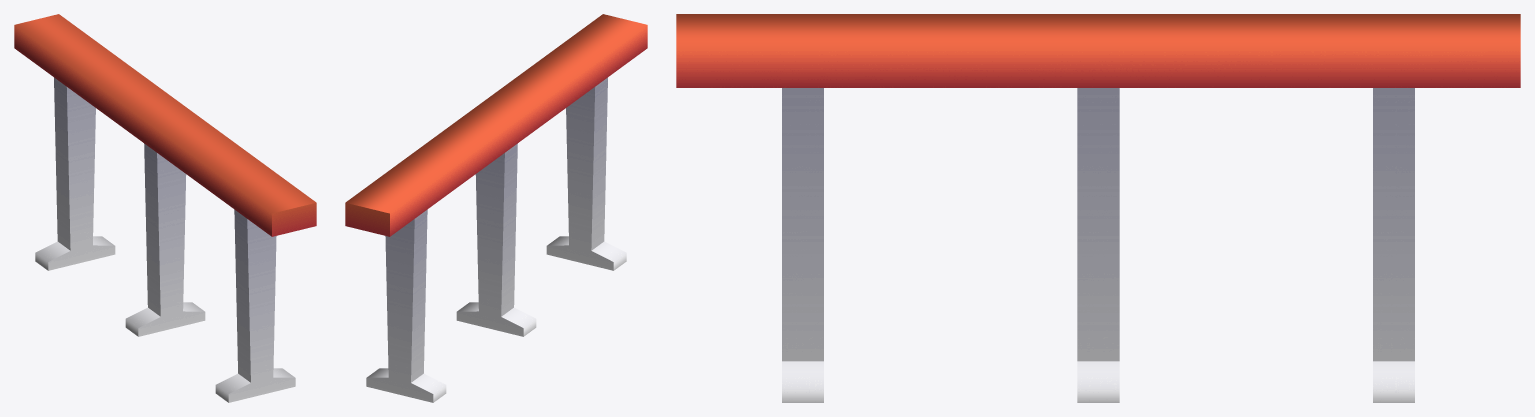
Rendered from rail-high.glb.
The picture shows the model from 3 angles, left to right: view 1: azimuth 30°, elevation 25°; view 2: azimuth 150°, elevation 25°; view 3: azimuth 270°, elevation 25°; orthographic projection. The views are drawn at different scales.
Parts seen in each view (by area): view 1: rail-high; view 2: rail-high; view 3: rail-high.
Boxes of the visible parts, box(x1,y1,x2,y2) form: rail-high: box(14, 14, 316, 402); rail-high: box(345, 14, 647, 402); rail-high: box(676, 14, 1520, 402).
Size of the model in its own units: 0.45 by 1.35 by 3.
1 material, 1 textured.
